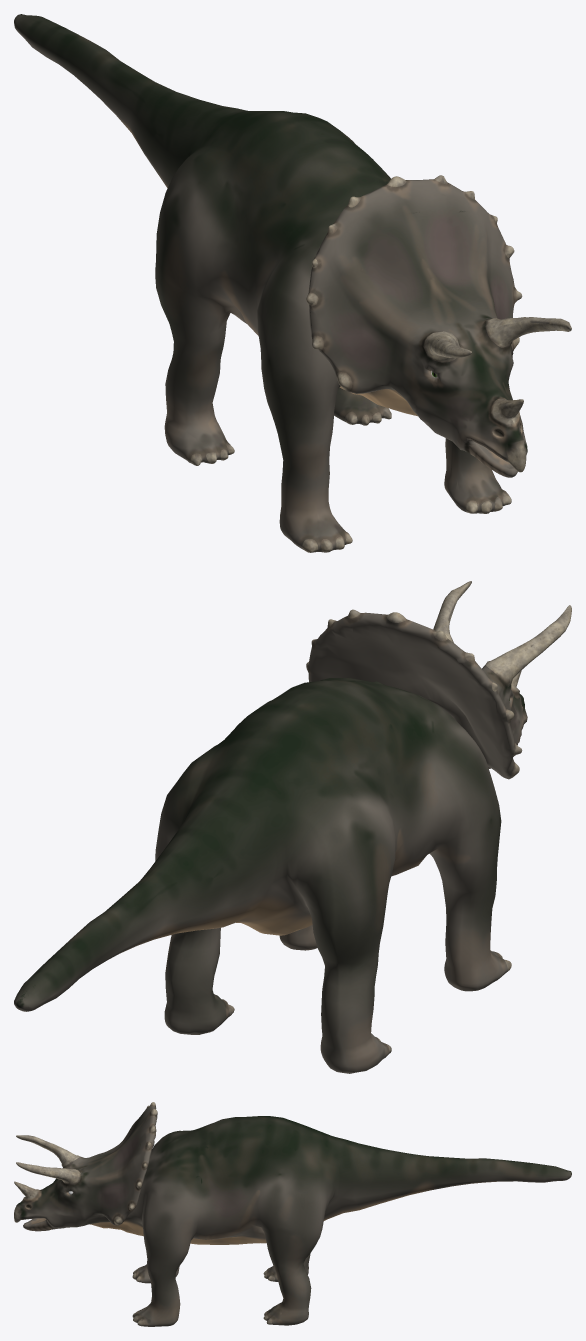
File: triceratops.gltf
3 views of the same model, one above another, from view 1: azimuth 30°, elevation 25°; view 2: azimuth 150°, elevation 25°; view 3: azimuth 270°, elevation 25° (orthographic). The views are drawn at different scales.
Visible parts, largest first — view 1: Triceratops; view 2: Triceratops; view 3: Triceratops.
Boxes of the visible parts, left/top/right/bottom form: Triceratops: left=14, top=14, right=571, bottom=552; Triceratops: left=14, top=581, right=571, bottom=1073; Triceratops: left=14, top=1102, right=571, bottom=1326.
Size of the model in its own units: 4.61 by 6.85 by 18.03.
Materials: 3 (2 with a texture image).
